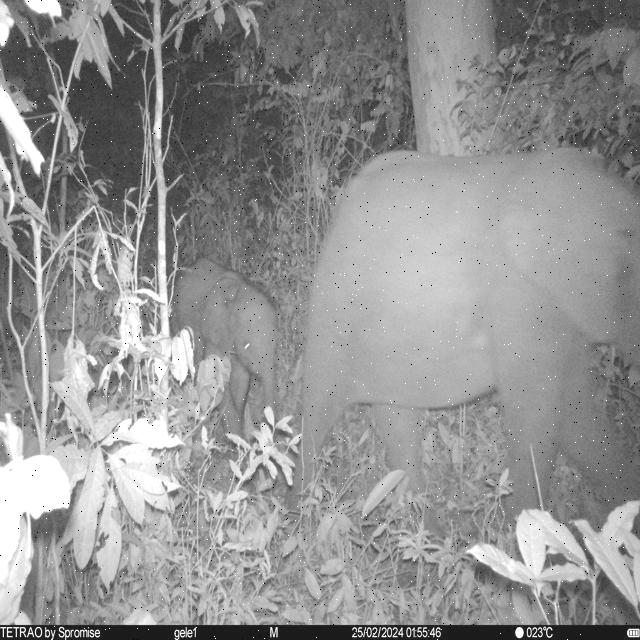calf: (169, 256, 280, 452)
ear: (498, 150, 618, 348), (201, 275, 242, 354)
elephant: (295, 150, 640, 528)
